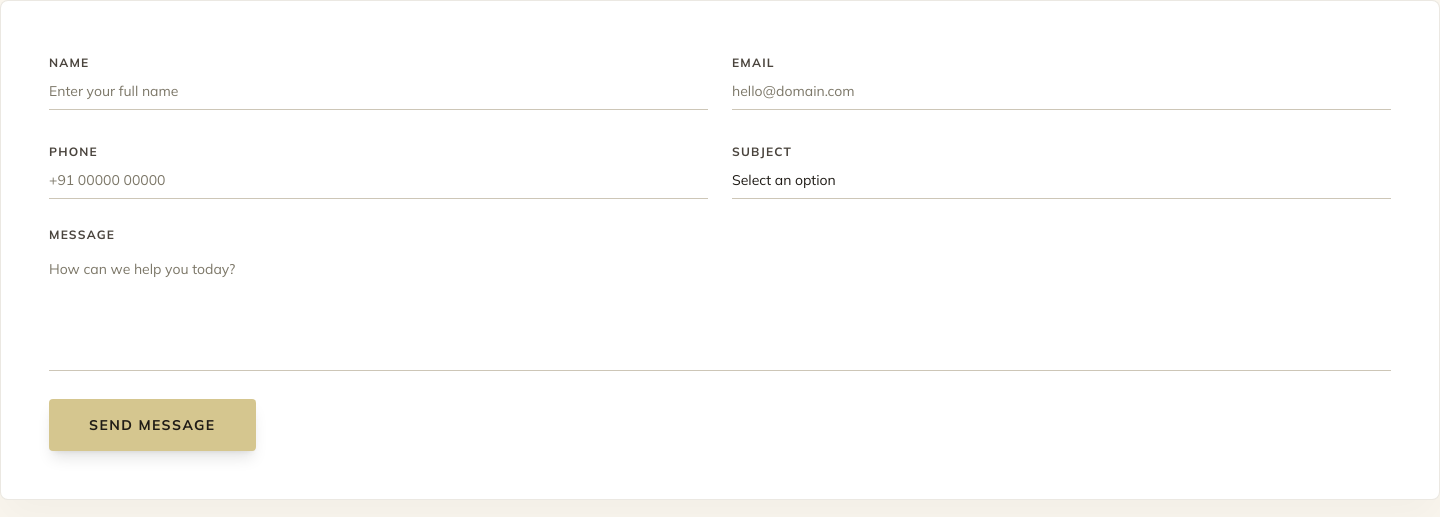
ContactForm › Zod validation › strips numbers from the name as the user types
Type "John123 Doe456" into the field with test id "contact-name-input" at (378, 92), box [49,73,708,110]
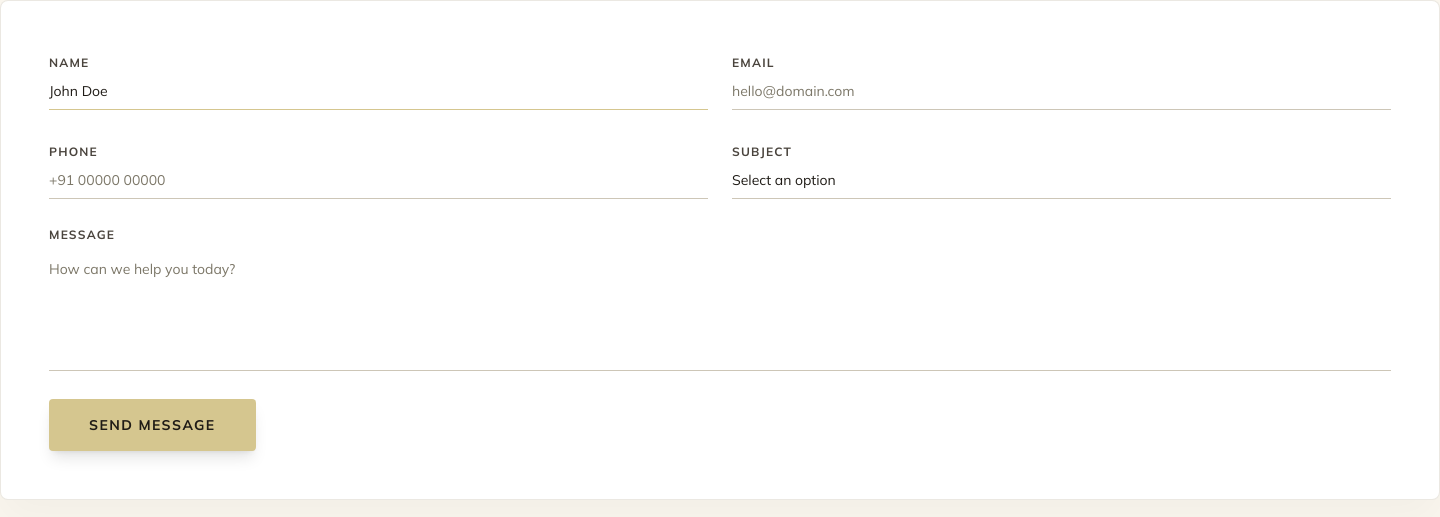
Check: the field with test id "contact-name-input" holds "John Doe", box [49,73,708,110]
